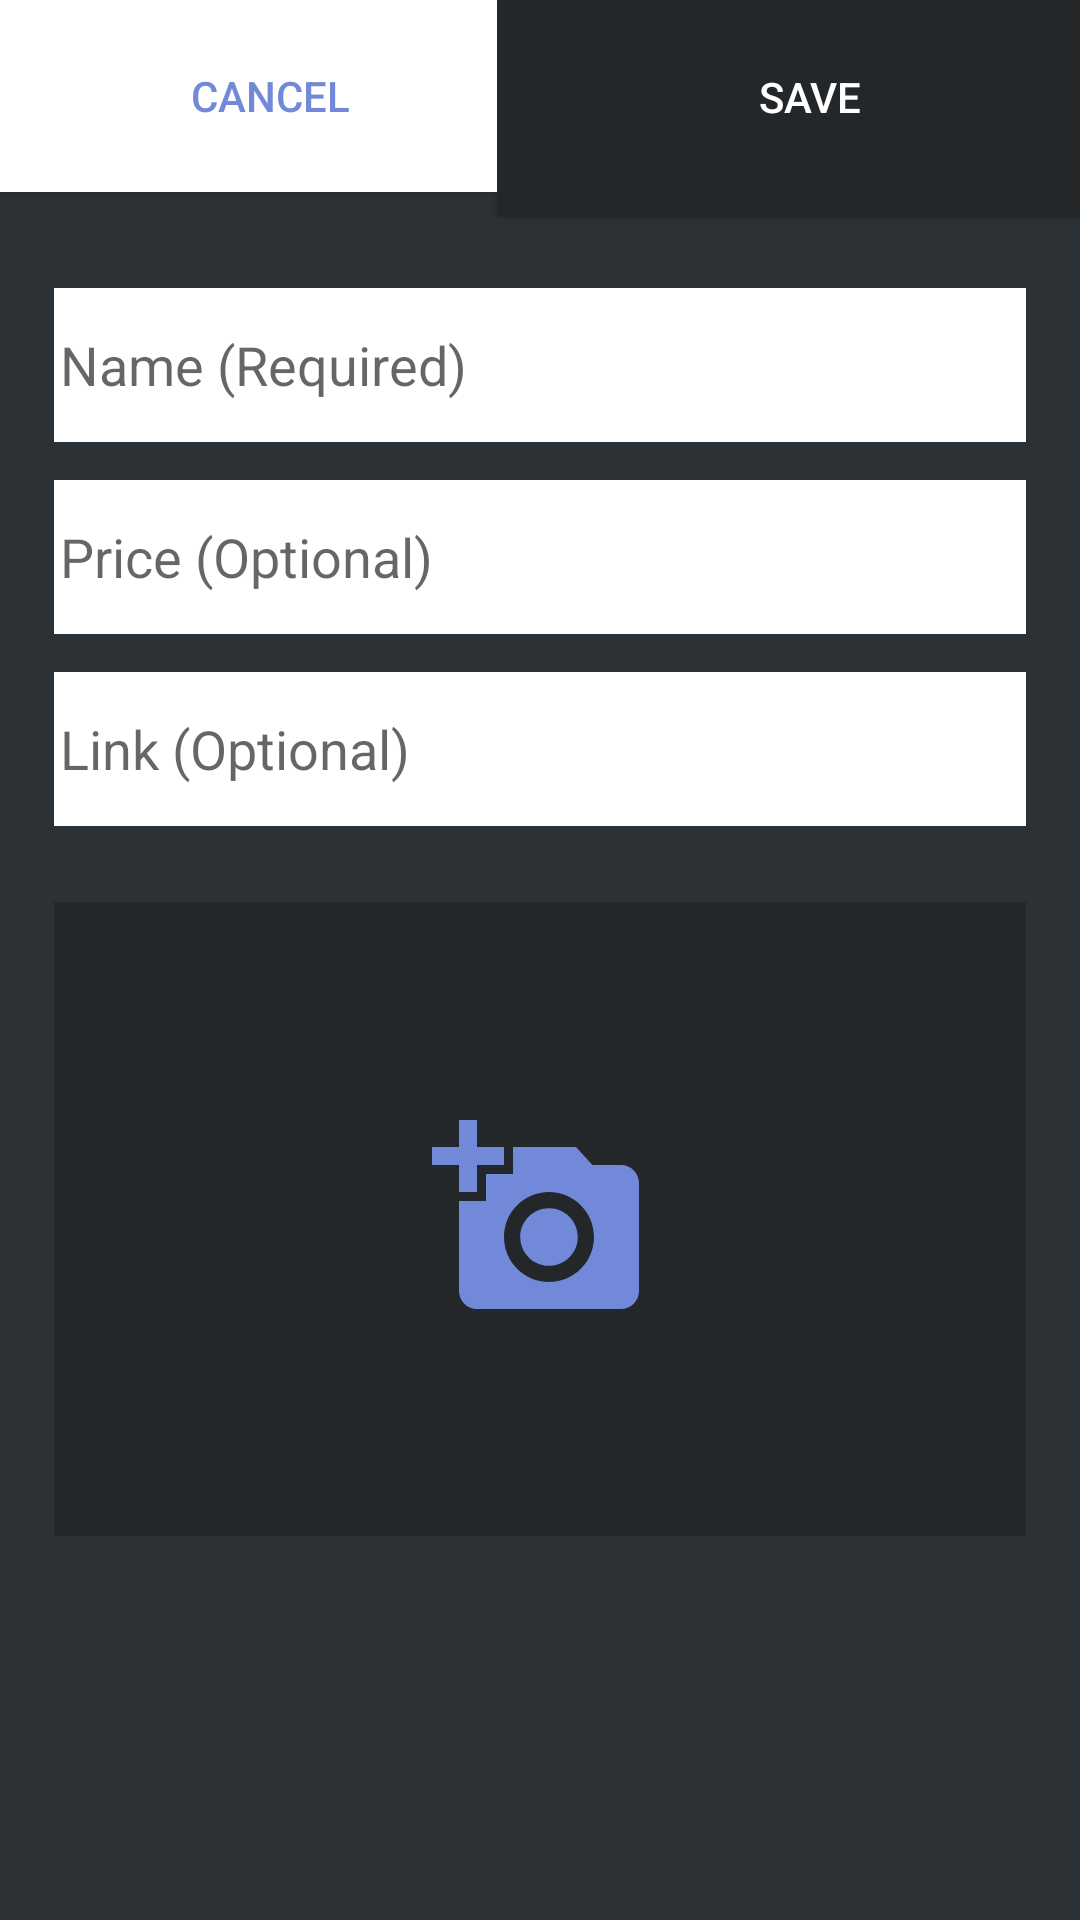

Named icons in this screenshot (1080 x 1920) and their centers, [x,y]:
add photo: [535,1214]
